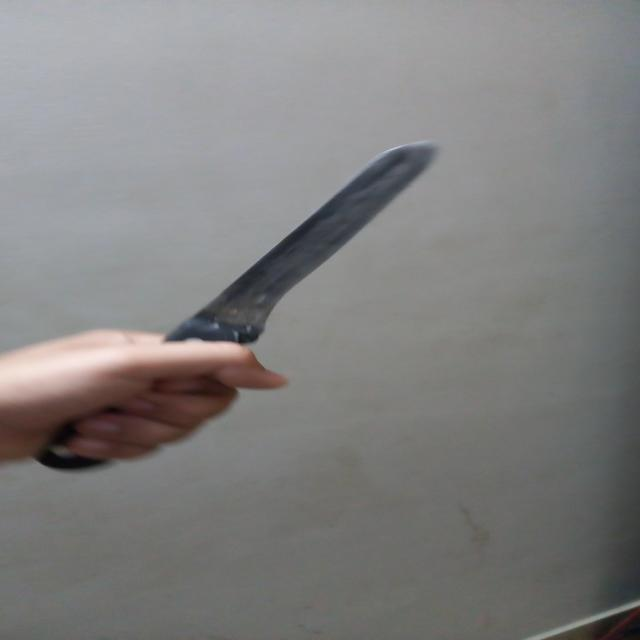Knife: (39, 142, 455, 478)
